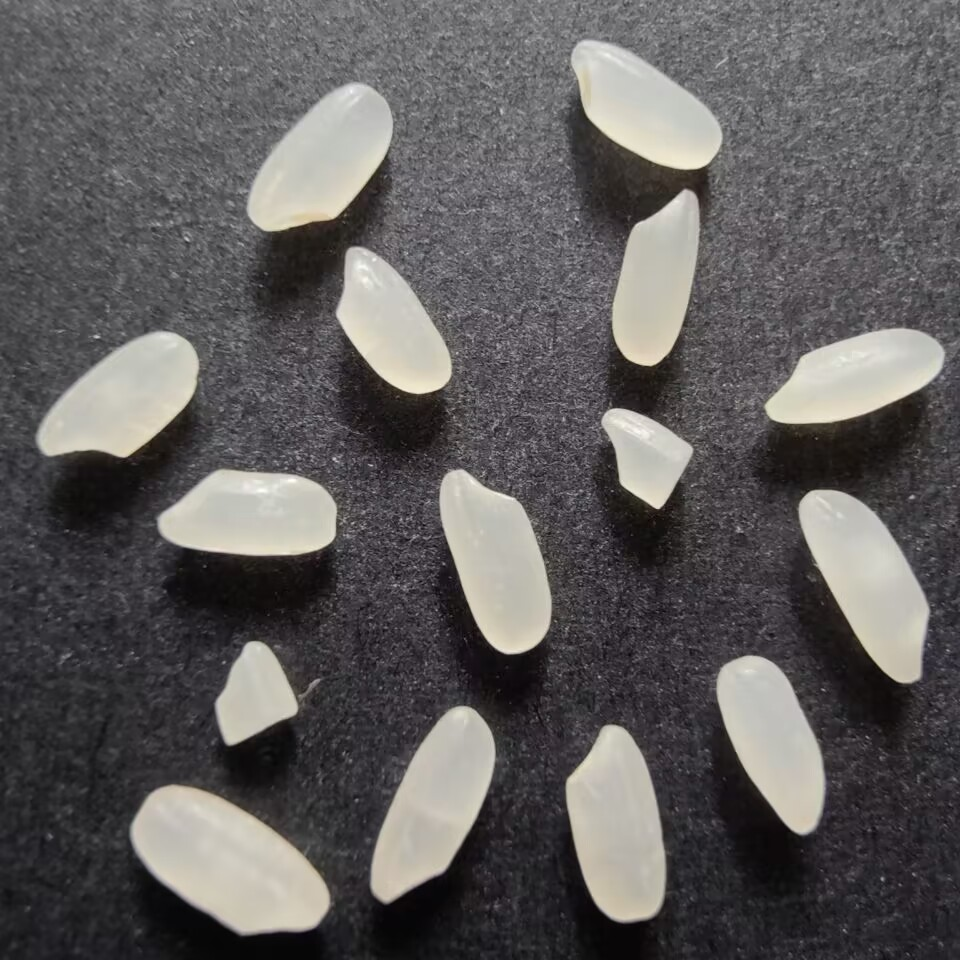broken: (599, 406, 697, 513), (210, 635, 298, 750)
rice: (126, 779, 333, 941), (366, 702, 500, 911), (796, 486, 932, 689), (432, 462, 555, 661), (244, 79, 399, 236), (32, 327, 203, 467), (566, 36, 726, 175), (560, 721, 667, 926), (714, 655, 832, 839), (763, 324, 947, 431), (329, 245, 455, 400), (607, 185, 705, 369), (149, 468, 342, 560)
